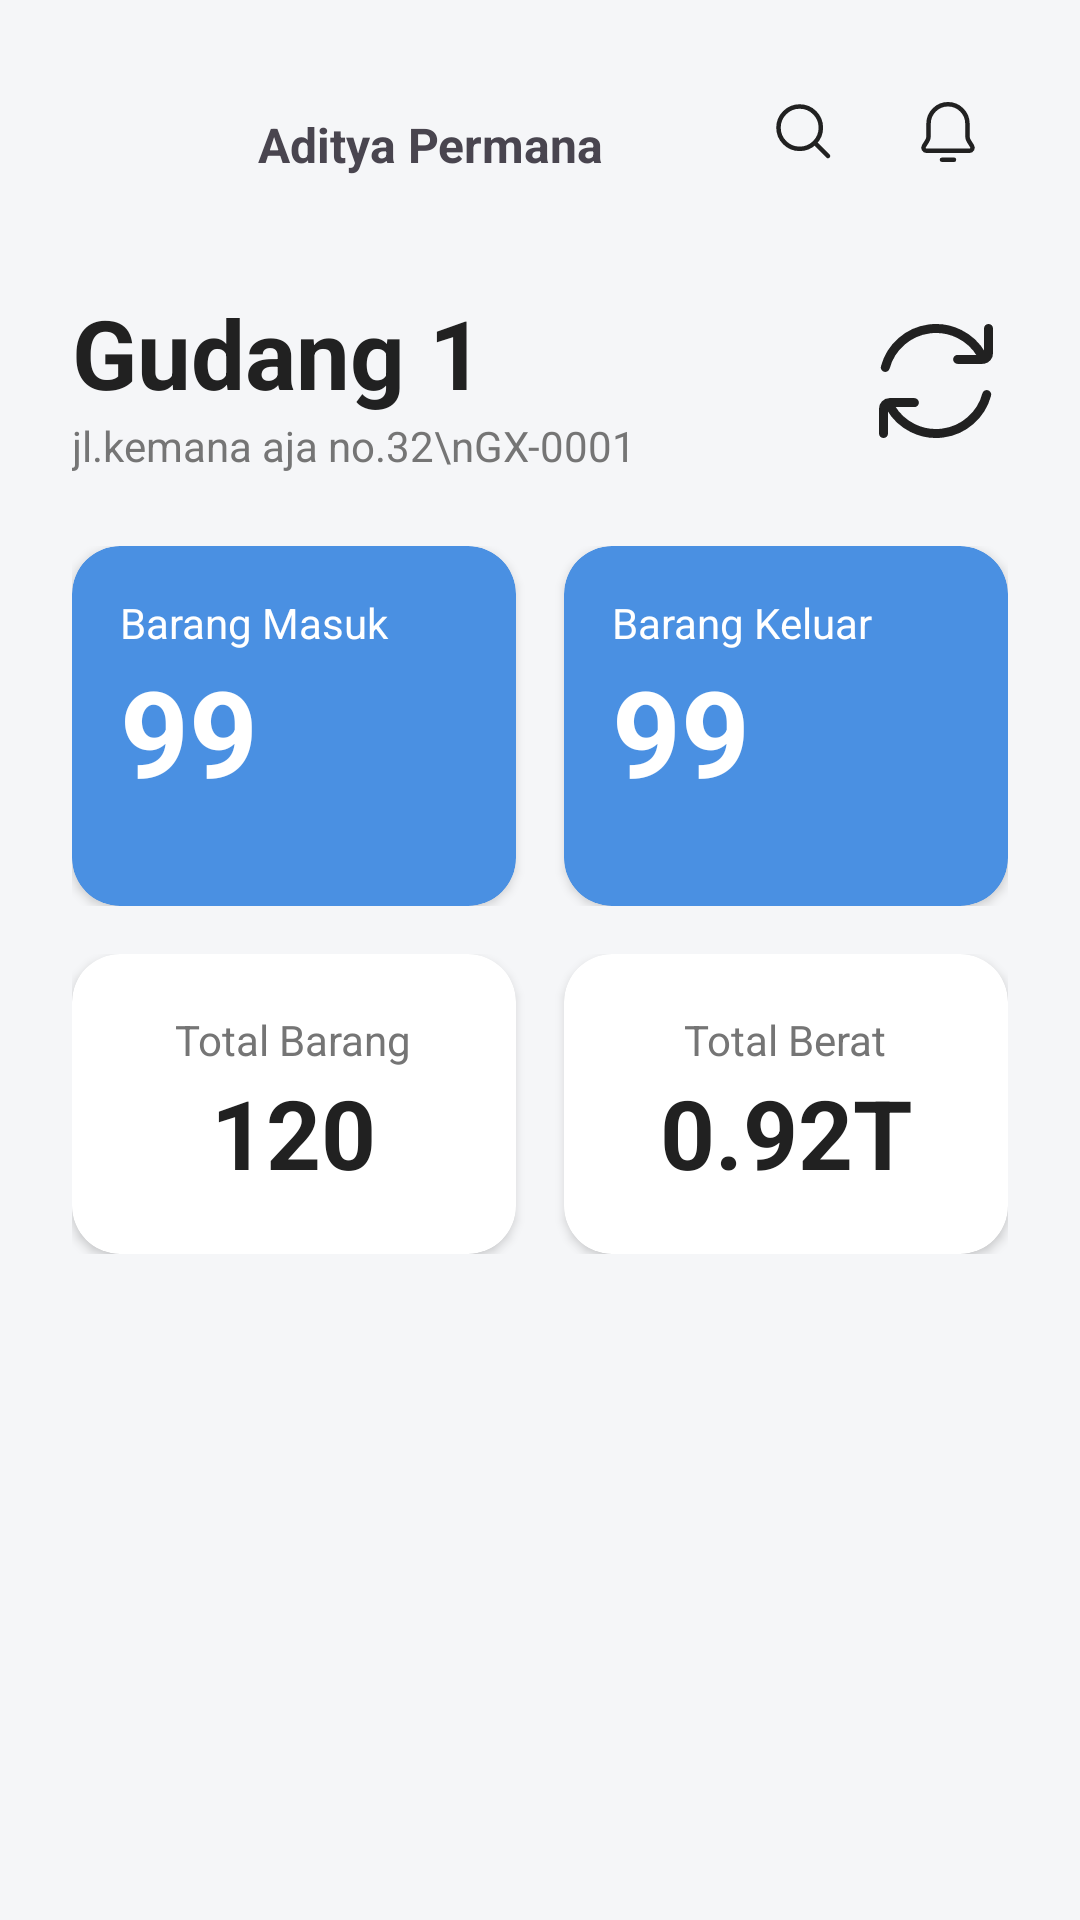

Named icons in this screenshot (1080 x 1920) and their bounding boxes, (x1, y1, x2, y2):
bell: (921, 102, 975, 162)
ganti: (879, 324, 993, 438)
search: (776, 104, 831, 159)
